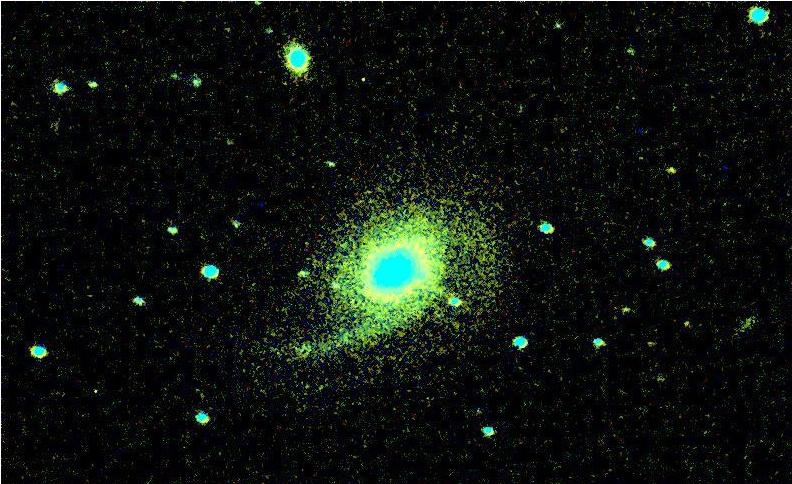star: (670, 305, 700, 335)
